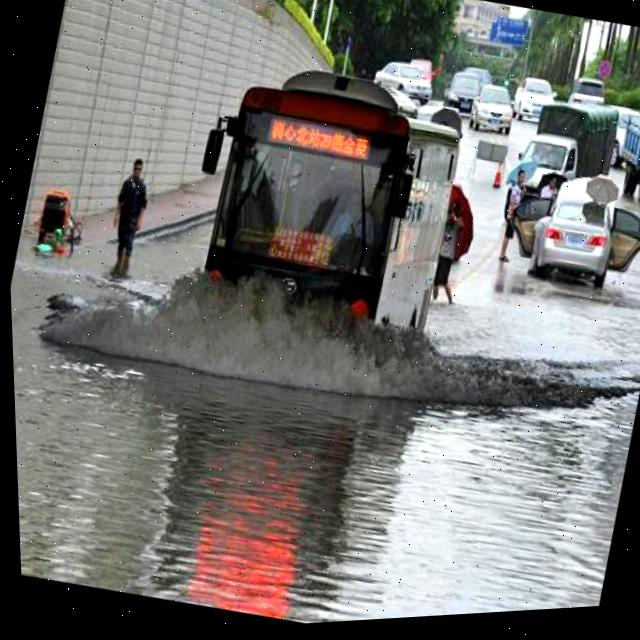civilian: (93, 146, 165, 286), (412, 192, 484, 322), (487, 161, 538, 271), (534, 168, 561, 213)
